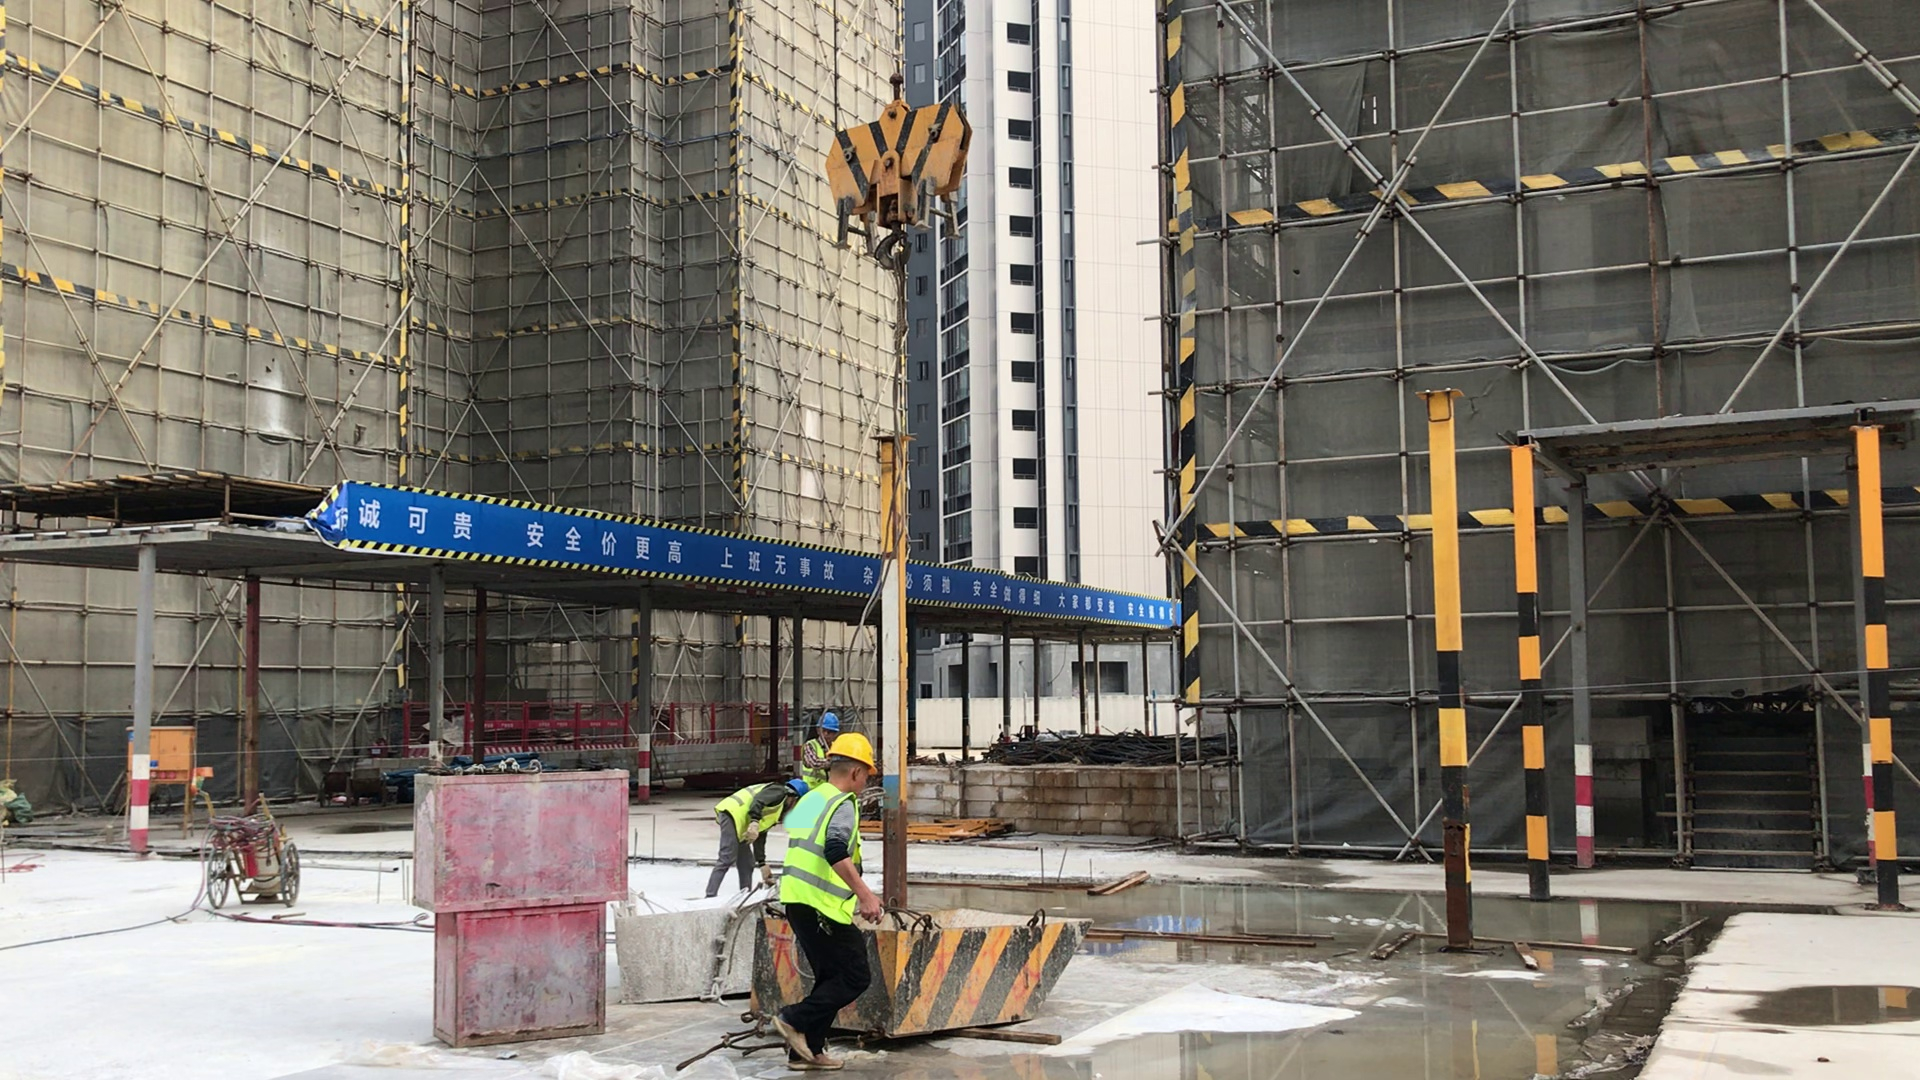ebox: (156, 722, 200, 842)
fence: (347, 483, 863, 597), (908, 561, 1162, 627), (484, 698, 626, 745), (678, 705, 760, 739)
handcart: (191, 791, 306, 909)
helmet: (824, 732, 880, 777), (819, 714, 840, 734), (785, 778, 808, 797)
hook: (818, 72, 970, 269)
hopper: (884, 900, 1100, 1031), (619, 894, 759, 1012)
person: (770, 729, 880, 1077), (703, 777, 810, 898), (801, 712, 841, 785)
vest: (776, 780, 866, 926), (714, 781, 786, 840), (803, 740, 828, 785)
